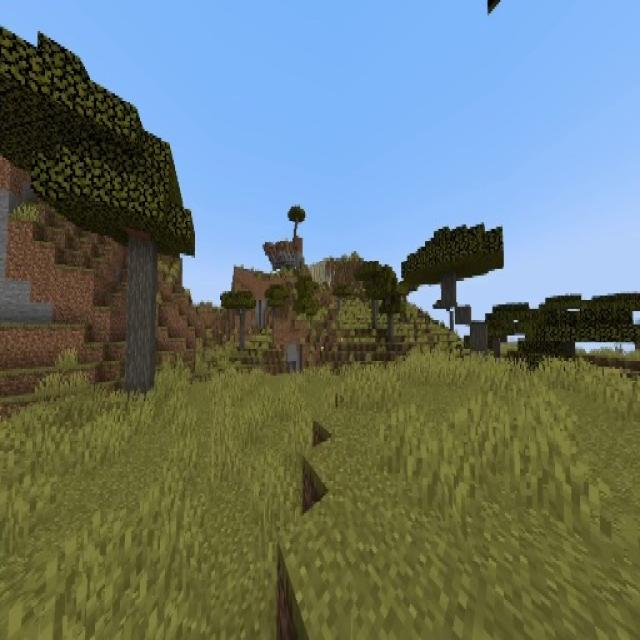acacia: (0, 28, 197, 398), (220, 289, 257, 350), (378, 293, 404, 341), (363, 277, 387, 327)
acacia_log: (126, 235, 155, 396), (469, 321, 486, 357), (441, 274, 455, 310), (455, 305, 471, 325), (239, 314, 245, 349), (388, 313, 394, 339), (373, 300, 376, 328)
